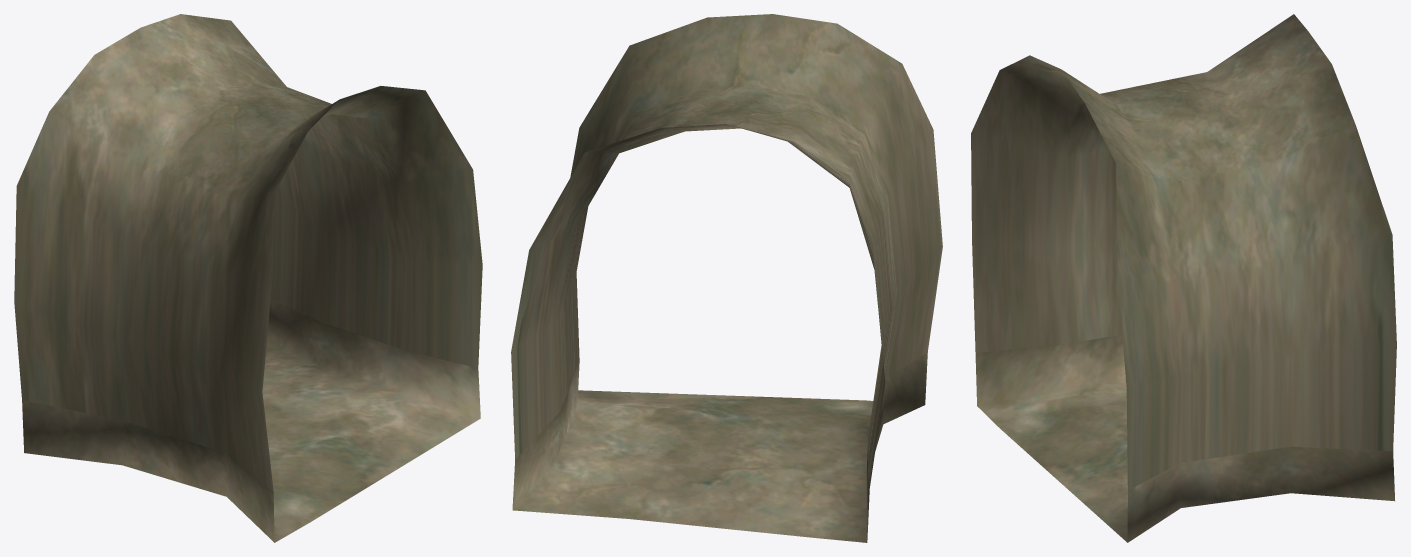
File: EKH_CAVERNS_PS_CA_SMALL_CAVE_DOOR3941.fbx
3 views of the same model, side by side, from view 1: azimuth 30°, elevation 25°; view 2: azimuth 150°, elevation 25°; view 3: azimuth 270°, elevation 25° (orthographic). The views are drawn at different scales.
Parts seen in each view (by area): view 1: EKH_CAVERNS_PS_CA_SMALL_CAVE_DOOR3941; view 2: EKH_CAVERNS_PS_CA_SMALL_CAVE_DOOR3941; view 3: EKH_CAVERNS_PS_CA_SMALL_CAVE_DOOR3941.
Boxes of the visible parts, bbox=[...] form: EKH_CAVERNS_PS_CA_SMALL_CAVE_DOOR3941: bbox=[14, 14, 482, 542]; EKH_CAVERNS_PS_CA_SMALL_CAVE_DOOR3941: bbox=[511, 14, 942, 542]; EKH_CAVERNS_PS_CA_SMALL_CAVE_DOOR3941: bbox=[971, 14, 1396, 542].
Bounding box in the file's own units: 31240 × 29437 × 29125.
1 material, 1 textured.
